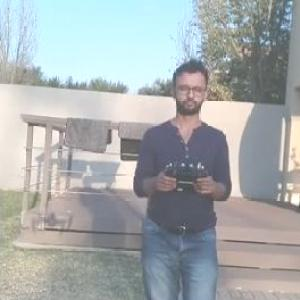follow: (126, 51, 236, 299)
